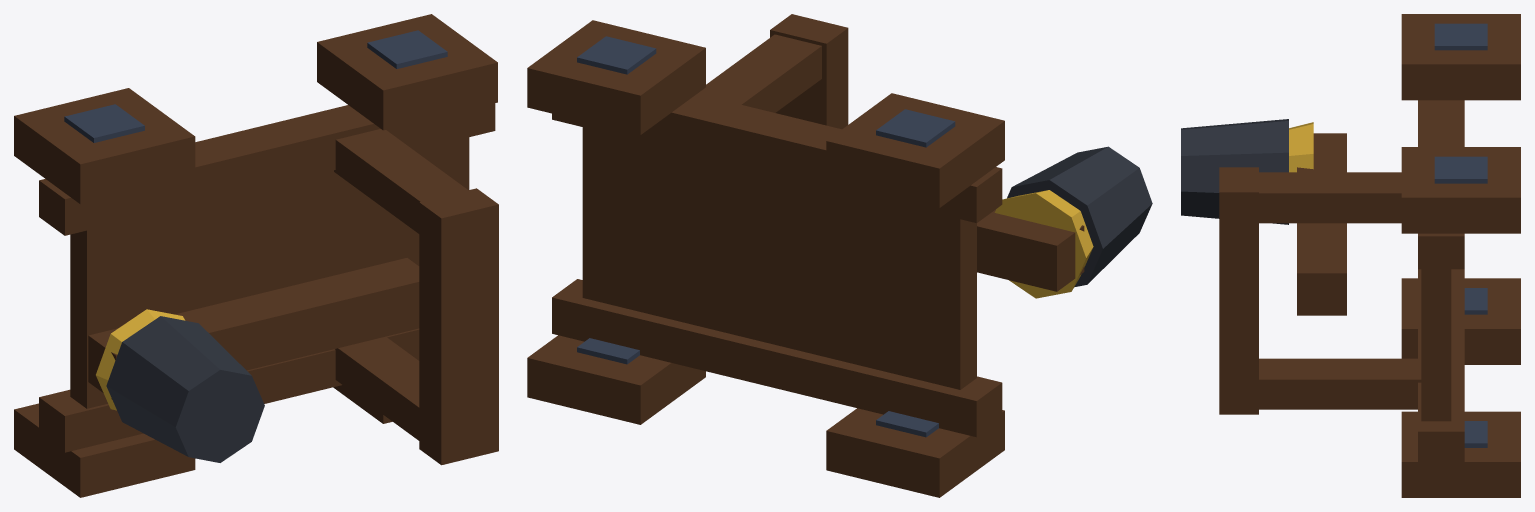
File: SM_SiegeCatapult.obj
The picture shows the model from 3 angles, left to right: view 1: azimuth 30°, elevation 25°; view 2: azimuth 150°, elevation 25°; view 3: azimuth 270°, elevation 25°; orthographic projection. The views are drawn at different scales.
Parts seen in each view (by area): view 1: SM_SiegeCatapult_timber, SM_SiegeCatapult_basalt, SM_SiegeCatapult_slate, SM_SiegeCatapult_gold; view 2: SM_SiegeCatapult_timber, SM_SiegeCatapult_basalt, SM_SiegeCatapult_slate, SM_SiegeCatapult_gold; view 3: SM_SiegeCatapult_timber, SM_SiegeCatapult_basalt, SM_SiegeCatapult_slate, SM_SiegeCatapult_gold.
Part boxes in pixels (bbox=[...]): SM_SiegeCatapult_timber: bbox=[14, 14, 498, 497]; SM_SiegeCatapult_basalt: bbox=[106, 316, 264, 462]; SM_SiegeCatapult_slate: bbox=[64, 30, 447, 142]; SM_SiegeCatapult_gold: bbox=[96, 309, 185, 410]; SM_SiegeCatapult_timber: bbox=[527, 14, 1084, 497]; SM_SiegeCatapult_basalt: bbox=[1007, 146, 1152, 287]; SM_SiegeCatapult_slate: bbox=[577, 36, 955, 437]; SM_SiegeCatapult_gold: bbox=[994, 190, 1093, 298]; SM_SiegeCatapult_timber: bbox=[1219, 14, 1520, 497]; SM_SiegeCatapult_basalt: bbox=[1181, 119, 1288, 224]; SM_SiegeCatapult_slate: bbox=[1434, 23, 1487, 447]; SM_SiegeCatapult_gold: bbox=[1289, 122, 1313, 172].
Size of the model in its own units: 289 by 206 by 205.
